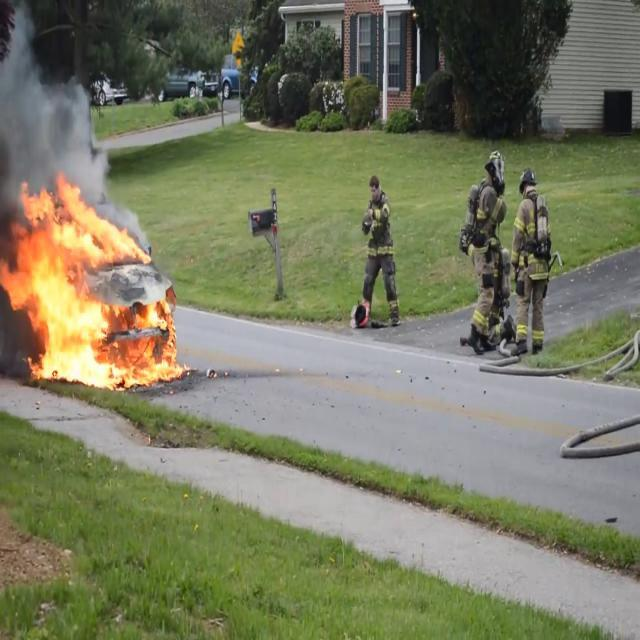Fire: (0, 173, 184, 389)
Smoke: (0, 2, 86, 240)
